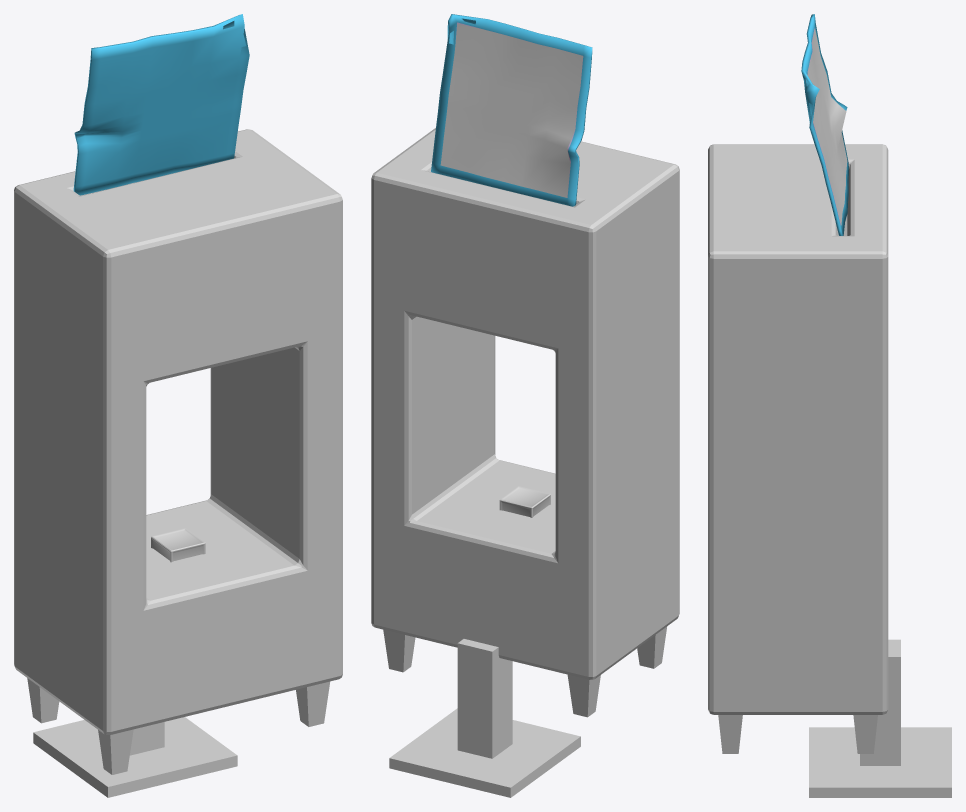
The model's file is Deconstructor1.fbx.
3 renders of one model, left to right at view 1: azimuth 30°, elevation 25°; view 2: azimuth 150°, elevation 25°; view 3: azimuth 270°, elevation 25°, orthographic. The views are drawn at different scales.
Visible parts, largest first — view 1: Cabinet, PaperBack, Crusher, Feet, Box; view 2: Cabinet, Paper, Crusher, PaperBack, Feet, Box; view 3: Cabinet, Crusher, Paper, PaperBack, Feet.
Part boxes in pixels (left/top/right/bottom): Cabinet: left=14, top=129, right=342, bottom=734; PaperBack: left=73, top=14, right=249, bottom=195; Crusher: left=33, top=717, right=237, bottom=797; Feet: left=27, top=678, right=330, bottom=774; Box: left=151, top=528, right=205, bottom=562; Cabinet: left=371, top=128, right=679, bottom=679; Paper: left=440, top=24, right=582, bottom=197; Crusher: left=389, top=639, right=580, bottom=797; PaperBack: left=431, top=14, right=592, bottom=206; Feet: left=383, top=626, right=667, bottom=717; Box: left=499, top=486, right=550, bottom=517; Cabinet: left=708, top=144, right=888, bottom=714; Crusher: left=809, top=639, right=951, bottom=797; Paper: left=807, top=28, right=847, bottom=225; PaperBack: left=801, top=14, right=848, bottom=235; Feet: left=718, top=715, right=877, bottom=753.
Size of what is drawn, in the model's own units: 52.47 by 157 by 48.49.
